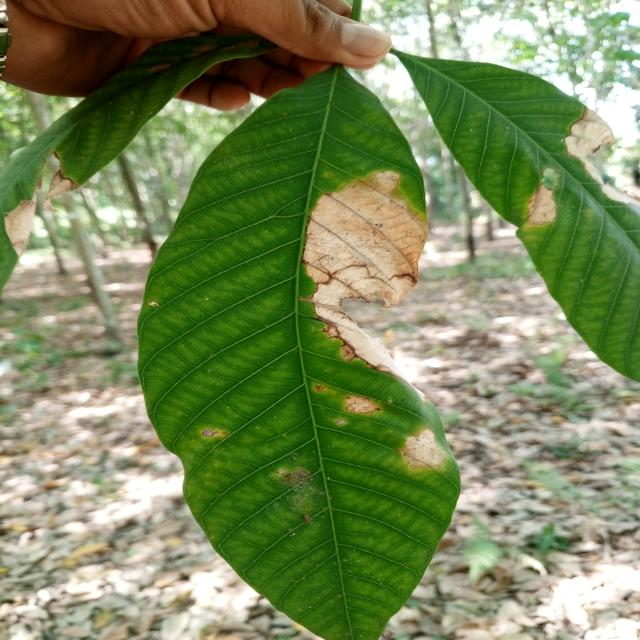Leaf-Blight: (302, 169, 428, 308), (312, 303, 425, 397), (564, 105, 615, 184), (4, 186, 37, 259), (398, 429, 444, 470), (44, 169, 80, 212), (526, 184, 556, 226), (343, 394, 379, 414), (600, 184, 630, 204)
